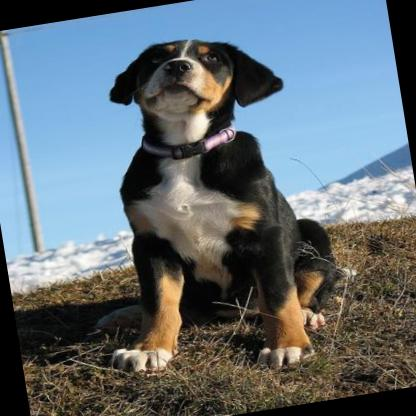Greater_Swiss_Mountain_dog: (58, 15, 374, 397)
